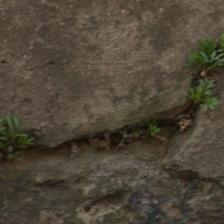Crack: (5, 40, 200, 130)
